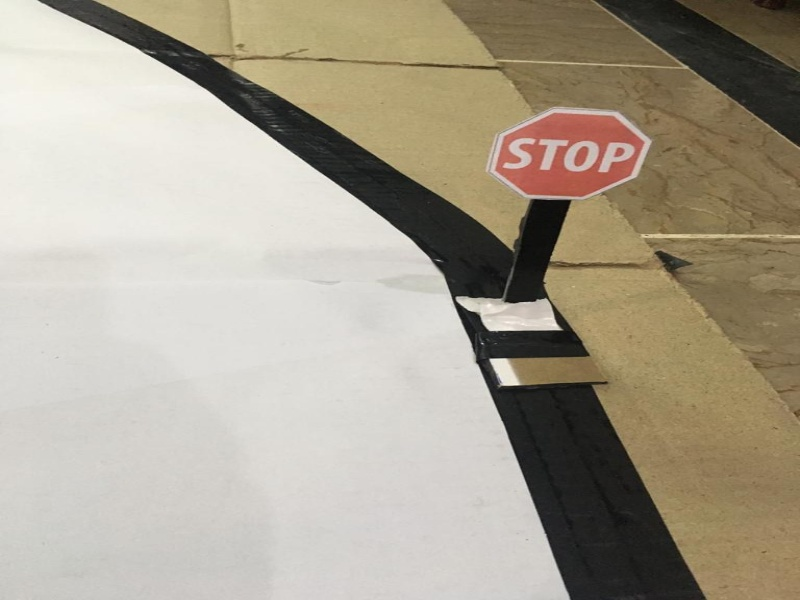Stop: (491, 99, 650, 202)
